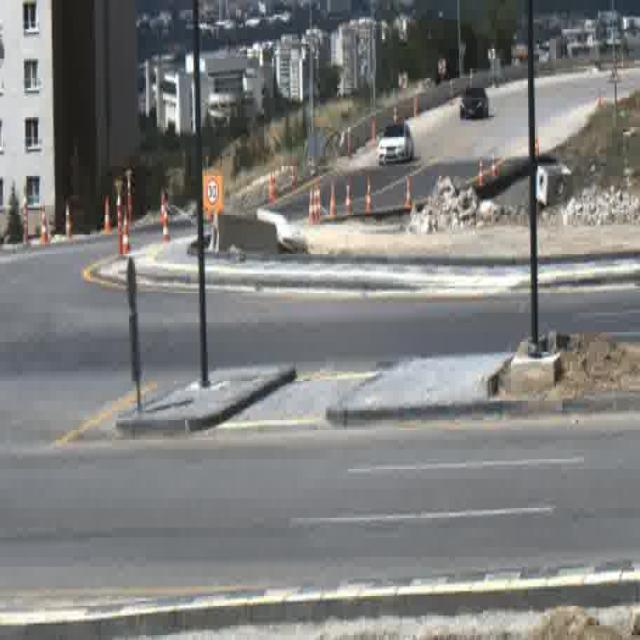Car: (377, 122, 412, 167), (461, 87, 488, 123)
